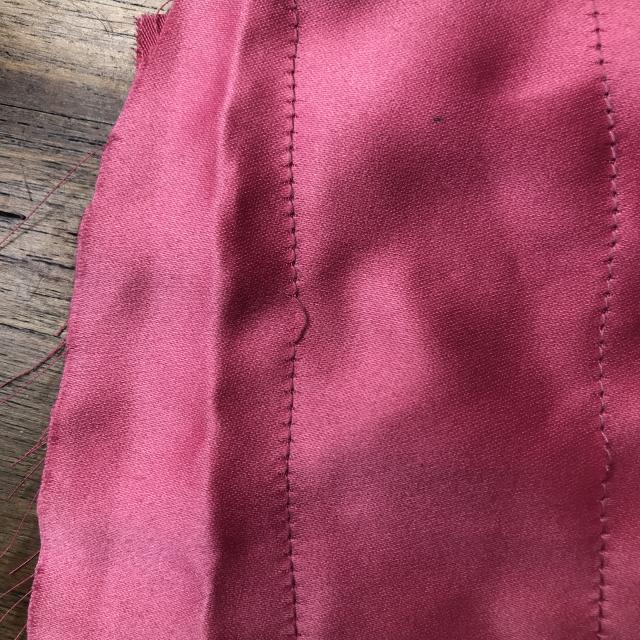skip: (260, 281, 342, 359)
